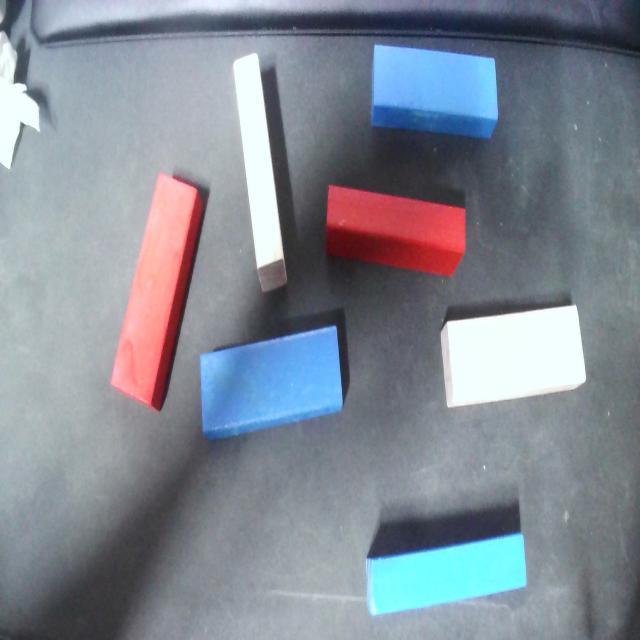blue: (186, 325, 354, 442), (357, 527, 532, 617), (365, 44, 506, 140)
red: (107, 171, 209, 413), (315, 182, 473, 281)
wood: (435, 304, 589, 409), (230, 52, 288, 291)
